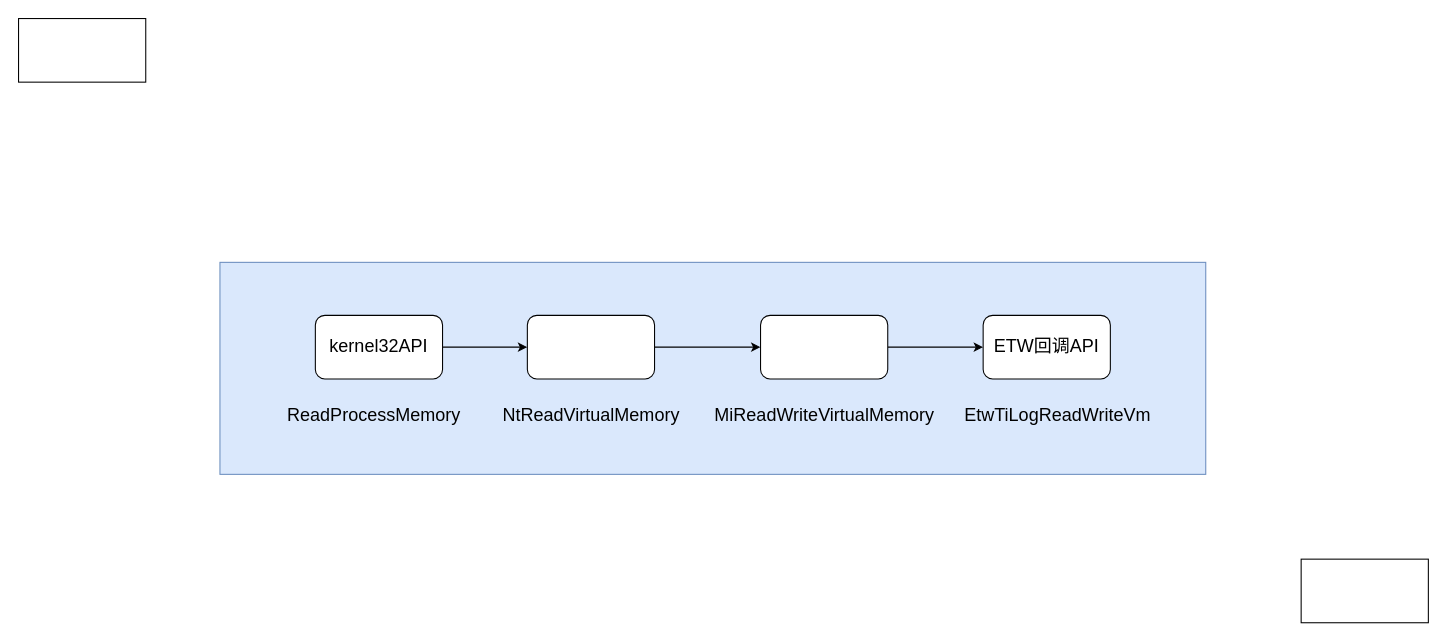
Image size: 1447x641. Some labels were removed from this diagram. The centre of each missing label's shape, as x and y in pixels:
"Mixxx" belongs at pixel 823 346.
"nt层对应API" belongs at pixel 590 346.
